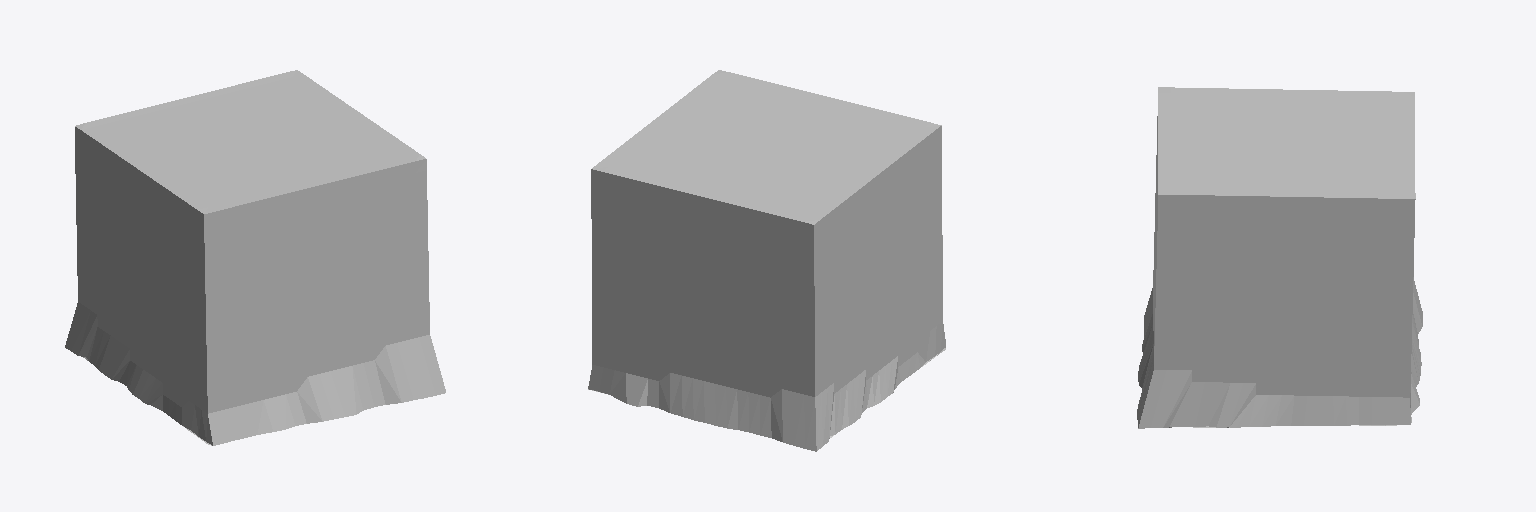
File: mod0035.obj
3 renders of one model, left to right at view 1: azimuth 30°, elevation 25°; view 2: azimuth 150°, elevation 25°; view 3: azimuth 270°, elevation 25°, orthographic.
Visible parts, largest first — view 1: Box001; view 2: Box001; view 3: Box001.
Boxes of the visible parts, <box> form: Box001: <box>65,70,445,445</box>; Box001: <box>588,70,945,451</box>; Box001: <box>1137,87,1422,428</box>.
Bounding box in the file's own units: 0.5799 × 0.5317 × 0.5979.